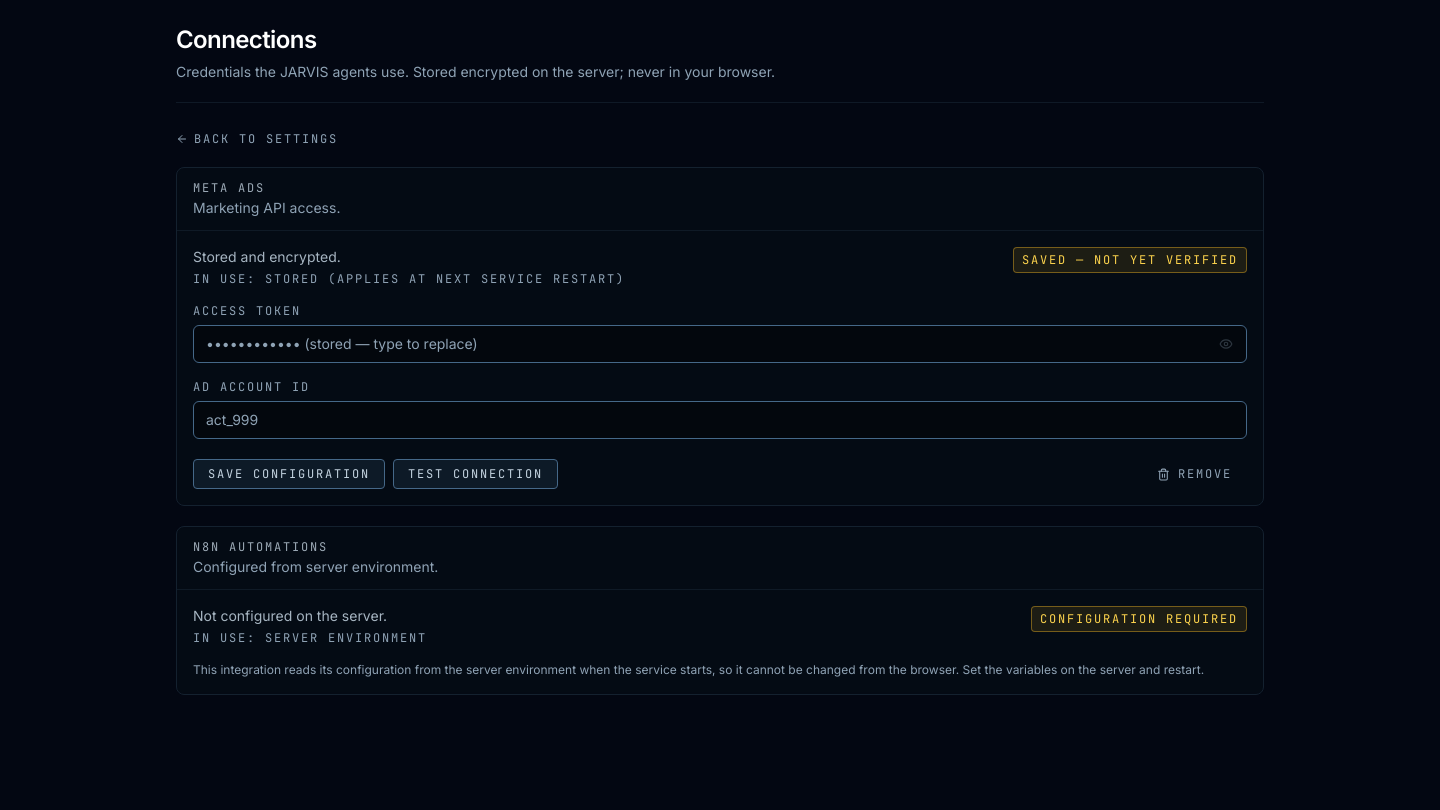
it: credential center › shows a failing test as invalid, with the provider's own reason
What coordinates should you click on to do the following:
click the button with test id "credential-test"
I would click on:
 (476, 474)
Its box is [393,459,558,489].
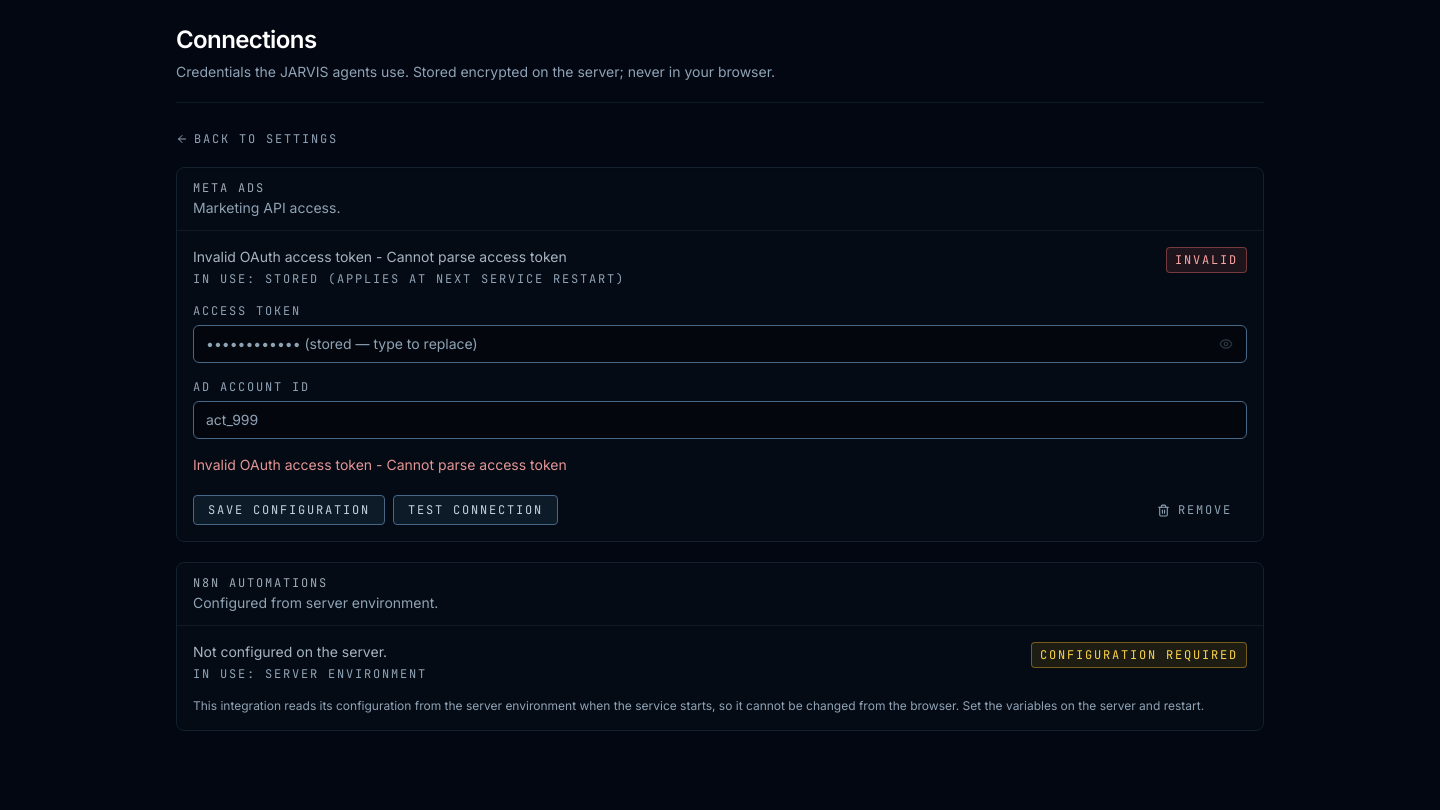
Result: the message with test id "credential-message" shows "Cannot parse access token" at [193,456,567,473]
Result: the text "Invalid" is shown at [1166,247,1247,273]
